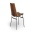chair: (6, 1, 27, 30)
